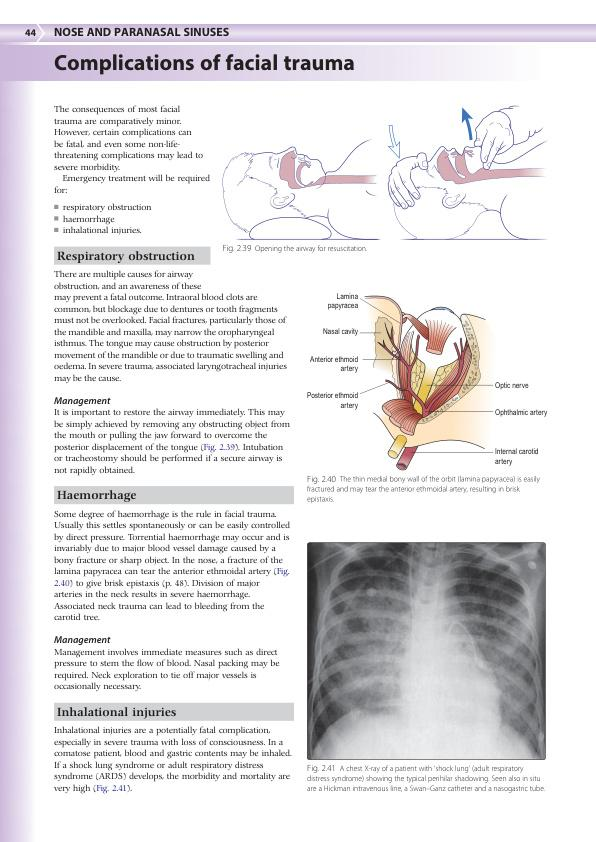caption: (306, 763, 546, 794), (306, 474, 542, 505), (222, 244, 368, 254)
chapter-heading: (53, 52, 356, 76)
header: (53, 27, 230, 37)
image: (306, 541, 547, 761), (216, 92, 558, 242), (302, 284, 553, 472)
list: (52, 202, 153, 237)
section-heading: (56, 249, 196, 264), (56, 706, 177, 720), (56, 489, 137, 503)
sub-section-heading: (53, 396, 112, 407), (53, 635, 111, 646)
text: (53, 269, 288, 384), (53, 509, 290, 622), (53, 725, 293, 795), (53, 408, 291, 478), (53, 104, 212, 195), (53, 648, 281, 693)
